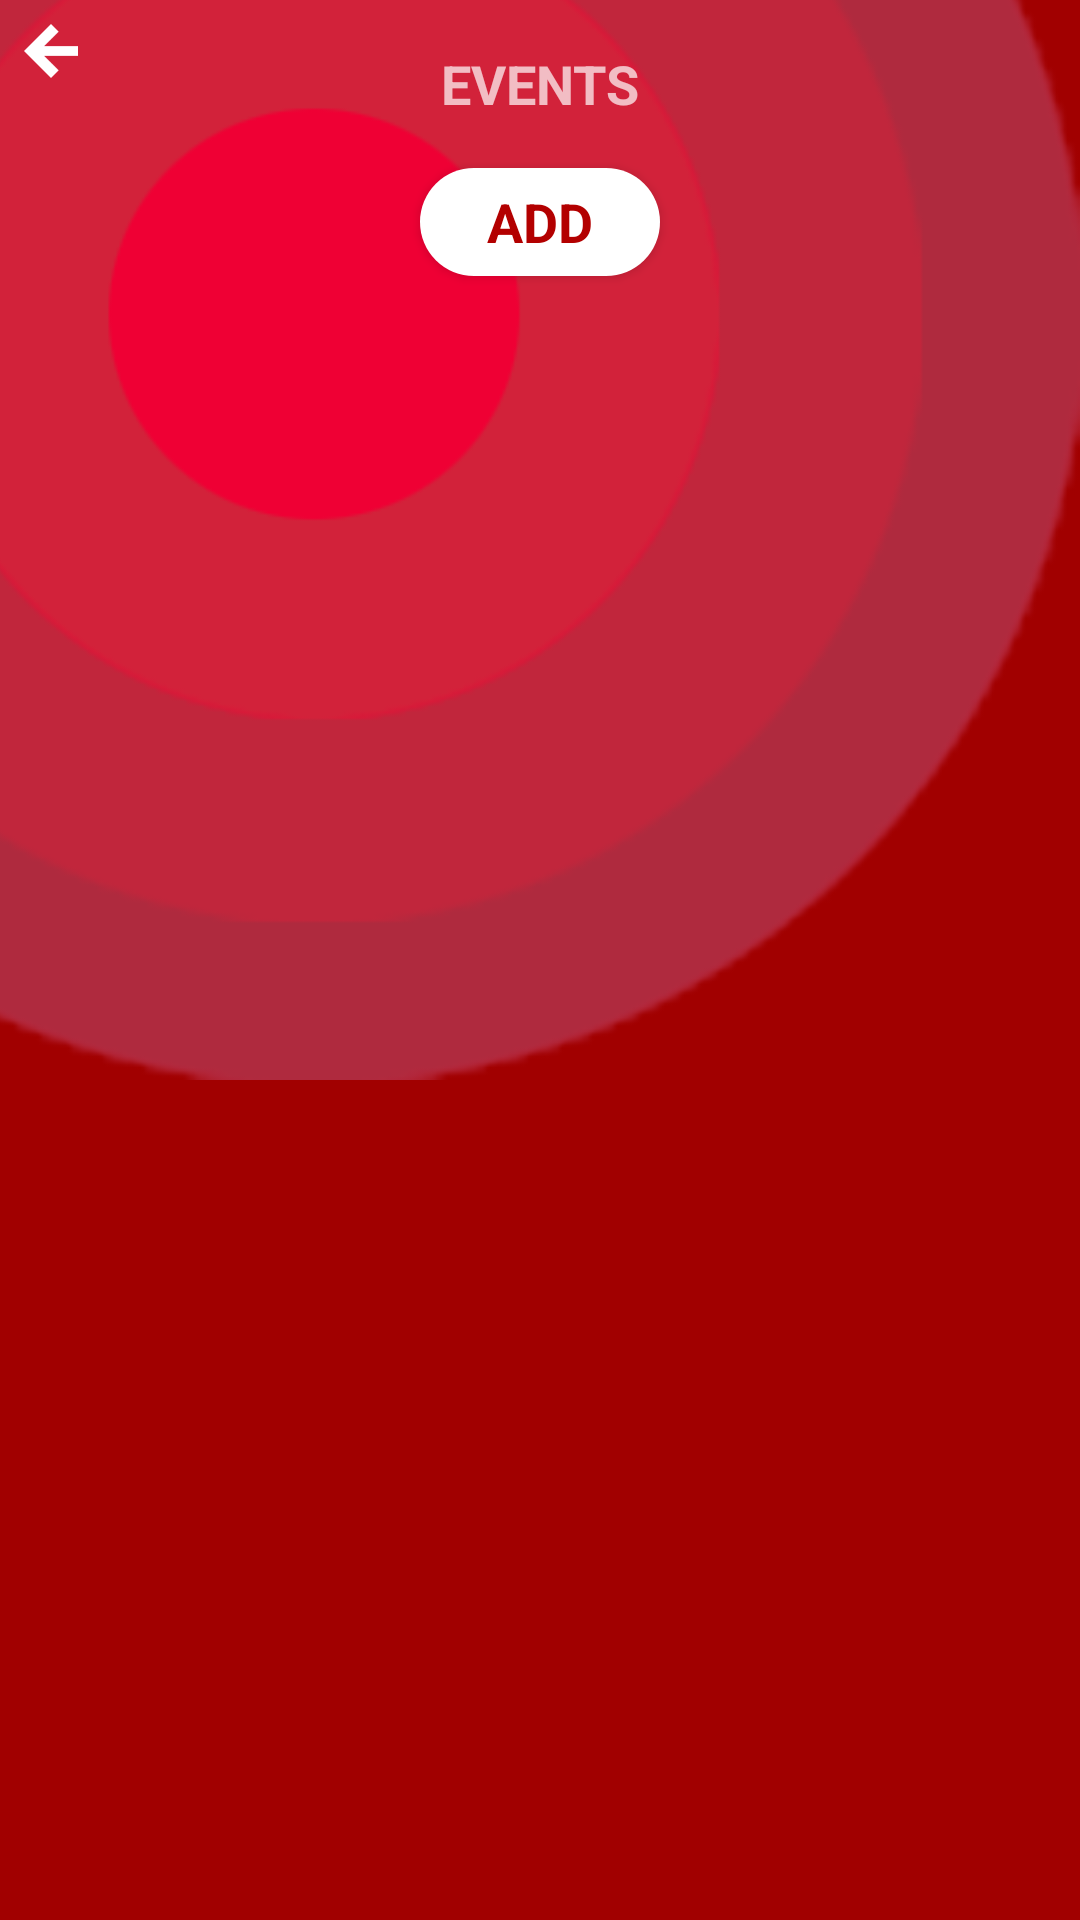

Icons on this 1080w x 1920h Android screen, each with its box as Rect(x1, y1, x2, y2):
arrow left: Rect(24, 24, 78, 78)
